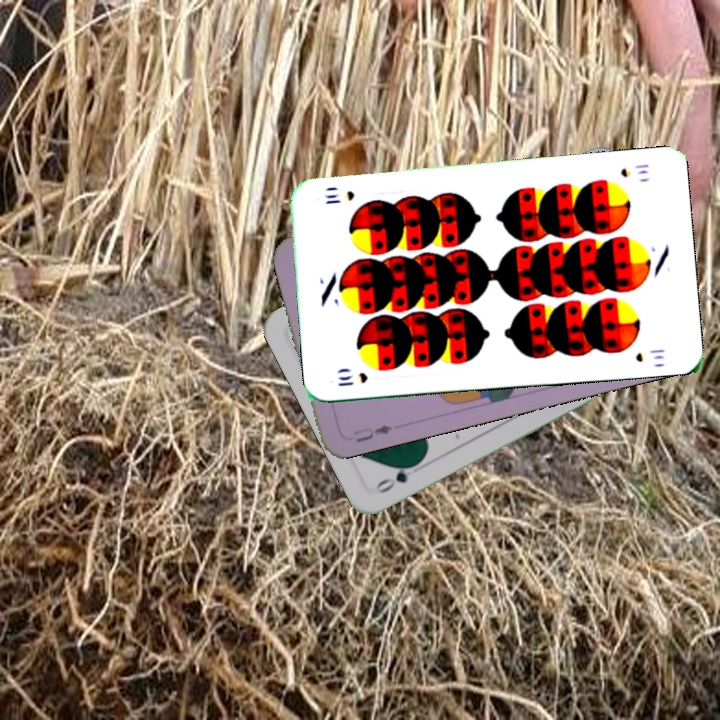EU: (349, 421, 395, 445)
GO: (371, 457, 423, 496)
S10: (334, 368, 370, 389), (617, 160, 652, 180)
